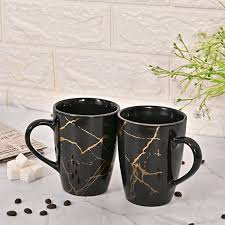mug: (29, 84, 141, 203), (119, 100, 202, 215)
